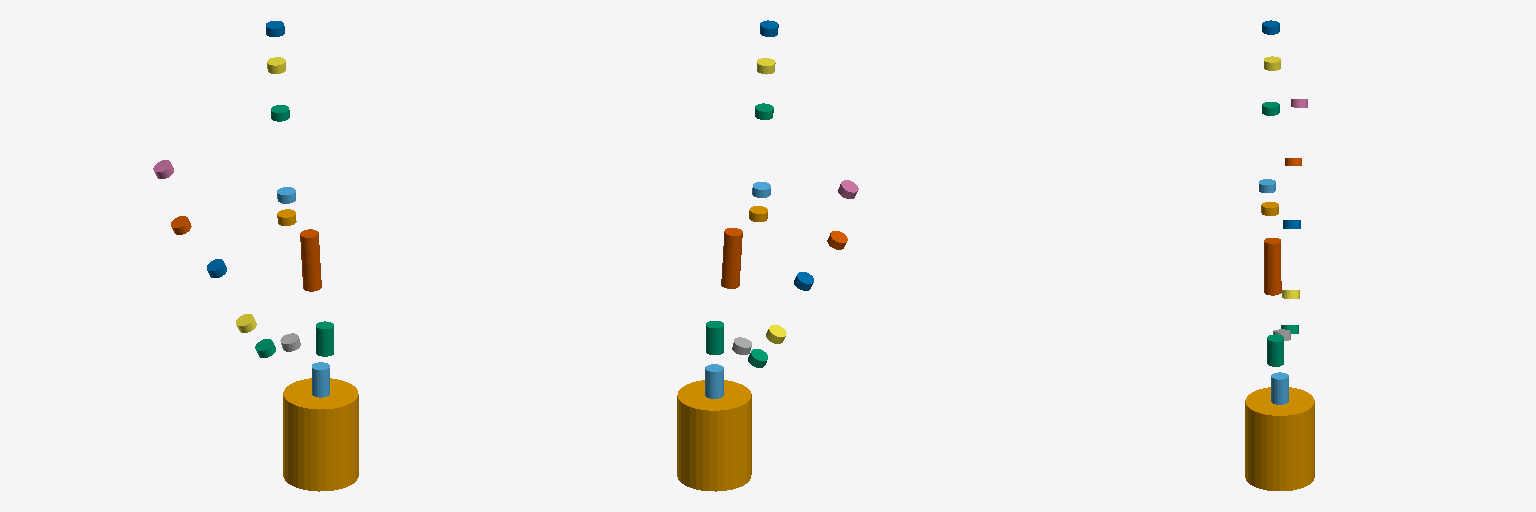
robot.urdf — hand:
<?xml version="1.0"?>
<robot name="hand">

    <!-- Base Link -->
    <link name="base_link">
        <inertial>
            <mass value="1.0" />
            <origin xyz="0 0 0" rpy="0 0 0"/>
            <inertia ixx="0.1" ixy="0" ixz="0" iyy="0.1" iyz="0" izz="0.1" />
        </inertial>
        <visual>
            <origin xyz="0.0 0.0 -0.024" rpy="0.0 0.0 0.0"/>
            <geometry>
                <cylinder radius="0.02" length="0.048"/>
            </geometry>
        </visual>
    </link>

    <!-- Link 1 -->
    <link name="wrist">
        <inertial>
            <mass value="0.5" />
            <origin xyz="0 0 0" rpy="0 0 0"/>
            <inertia ixx="0.05" ixy="0" ixz="0" iyy="0.05" iyz="0" izz="0.05" />
        </inertial>
        <visual>
            <origin xyz="0.0 0.0 0.008" rpy="0.0 0.0 0.0"/>
            <geometry>
                <cylinder radius="0.005" length="0.016"/>
            </geometry>
        </visual>
    </link>

    <!-- Joint 1 -->
    <joint name="joint1" type="revolute">
        <parent link="base_link"/>
        <child link="wrist"/>
        <origin xyz="0 0 0" rpy="0 0 0"/>
        <axis xyz="0 1 0"/>
        <limit lower="-0.40" upper="0.40" effort="10" velocity="1"/>
    </joint>

    <!-- Link 2 -->
    <link name="meta2_c">
        <inertial>
            <mass value="0.5" />
            <origin xyz="0 0 0" rpy="0 0 0"/>
            <inertia ixx="0.05" ixy="0" ixz="0" iyy="0.05" iyz="0" izz="0.05" />
        </inertial>
        <visual>
            <origin xyz="0.0 0.0 0.0" rpy="0.0 0.0 0.0"/>
            <geometry>
                <cylinder radius="0.005" length="0.016"/>
            </geometry>
        </visual>
    </link>

    <!-- Joint 2 -->
    <joint name="joint2" type="revolute">
        <parent link="wrist"/>
        <child link="meta2_c"/>
        <origin xyz="0.0011 -0.0025 0.0326447" rpy="0 0 0"/>
        <!-- .785398 0 0 -->
        <axis xyz="1 0 0"/>
        <limit lower="-1.57" upper="1.57" effort="10" velocity="1"/>
    </joint>

    <!-- Link 3 -->
    <link name="meta1_c_1">
        <inertial>
            <mass value="0.5" />
            <origin xyz="0 0 0" rpy="0 0 0"/>
            <inertia ixx="0.05" ixy="0" ixz="0" iyy="0.05" iyz="0" izz="0.05" />
        </inertial>
    </link>
    <link name="meta1_c_2">
        <inertial>
            <mass value="0.5" />
            <origin xyz="0 0 0" rpy="0 0 0"/>
            <inertia ixx="0.05" ixy="0" ixz="0" iyy="0.05" iyz="0" izz="0.05" />
        </inertial>
    </link>
    <link name="meta1_c_3">
        <inertial>
            <mass value="0.5" />
            <origin xyz="0 0 0" rpy="0 0 0"/>
            <inertia ixx="0.05" ixy="0" ixz="0" iyy="0.05" iyz="0" izz="0.05" />
        </inertial>
        <visual>
            <origin xyz="0.0 0.0 0.0" rpy="0.0 0.0 0.0"/>
            <geometry>
                <cylinder radius="0.005" length="0.032"/>
            </geometry>
        </visual>
    </link>

    <!-- Joint 3 -->
    <joint name="joint3_1" type="fixed">
        <parent link="meta2_c"/>
        <child link="meta1_c_1"/>
        <origin xyz="-0.0096137 -0.00165902 0.0489203" rpy="0.002443461 0 0"/>
        <axis xyz="0 0 0"/>
        <limit lower="-3.14" upper="3.14" effort="10" velocity="1"/>
    </joint>
    <joint name="joint3_2" type="fixed">
        <parent link="meta1_c_1"/>
        <child link="meta1_c_2"/>
        <origin xyz="0 0 0" rpy="0 -0.06021386 0"/>
        <axis xyz="0 0 0"/>
        <limit lower="-3.14" upper="3.14" effort="10" velocity="1"/>
    </joint>
    <joint name="joint3_3" type="revolute">
        <parent link="meta1_c_2"/>
        <child link="meta1_c_3"/>
        <origin xyz="0 0 0" rpy="0 0 0"/>
        <axis xyz="0 0 1"/>
        <limit lower="-0.08" upper="0.08" effort="10" velocity="1"/>
    </joint>

    <!-- Link 4 -->
    <link name="indexp1_c_1">
        <inertial>
            <mass value="0.5" />
            <origin xyz="0 0 0" rpy="0 0 0"/>
            <inertia ixx="0.05" ixy="0" ixz="0" iyy="0.05" iyz="0" izz="0.05" />
        </inertial>
    </link>
    <link name="indexp1_c_2">
        <inertial>
            <mass value="0.5" />
            <origin xyz="0 0 0" rpy="0 0 0"/>
            <inertia ixx="0.05" ixy="0" ixz="0" iyy="0.05" iyz="0" izz="0.05" />
        </inertial>
    </link>
    <link name="indexp1_c_3">
        <inertial>
            <mass value="0.5" />
            <origin xyz="0 0 0" rpy="0 0 0"/>
            <inertia ixx="0.05" ixy="0" ixz="0" iyy="0.05" iyz="0" izz="0.05" />
        </inertial>
        <visual>
            <origin xyz="0.0 0.0 0.0" rpy="0.0 0.0 0.0"/>
            <geometry>
                <cylinder radius="0.005" length="0.005"/>
            </geometry>
        </visual>
    </link>

    <!-- Joint 4 -->
    <joint name="joint4_1" type="fixed">
        <parent link="meta1_c_3"/>
        <child link="indexp1_c_1"/>
        <origin xyz="-0.0138285 -0.00145 0.0301857" rpy="-0.0028797933 0 0"/>
        <axis xyz="0 0 0"/>
        <limit lower="-3.14" upper="3.14" effort="10" velocity="1"/>
    </joint>
    <joint name="joint4_2" type="fixed">
        <parent link="indexp1_c_1"/>
        <child link="indexp1_c_2"/>
        <origin xyz="0 0 0" rpy="0 0 -0.04258603"/>
        <axis xyz="0 0 0"/>
        <limit lower="-3.14" upper="3.14" effort="10" velocity="1"/>
    </joint>
    <joint name="joint4_3" type="revolute">
        <parent link="indexp1_c_2"/>
        <child link="indexp1_c_3"/>
        <origin xyz="0 0 0" rpy="0 0 0"/>
        <axis xyz="0 1 0"/>
        <limit lower="-0.27" upper="0.27" effort="10" velocity="1"/>
    </joint>

    <!-- Link 5 -->
    <link name="indexp2_c">
        <inertial>
            <mass value="0.5" />
            <origin xyz="0 0 0" rpy="0 0 0"/>
            <inertia ixx="0.05" ixy="0" ixz="0" iyy="0.05" iyz="0" izz="0.05" />
        </inertial>
        <visual>
            <origin xyz="0.0 0.0 0.0" rpy="0.0 0.0 0.0"/>
            <geometry>
                <cylinder radius="0.005" length="0.005"/>
            </geometry>
        </visual>
    </link>

    <!-- Joint 5 -->
    <joint name="joint5" type="revolute">
        <parent link="indexp1_c_3"/>
        <child link="indexp2_c"/>
        <origin xyz="-0.000099998 -0.0016 0.014" rpy="0 0 0"/>
        <axis xyz="1 0 0"/>
        <limit lower="-1.57" upper="0.17" effort="10" velocity="1"/>
    </joint>

    <!-- Link 6 -->
    <link name="indexp3_c">
        <inertial>
            <mass value="0.5" />
            <origin xyz="0 0 0" rpy="0 0 0"/>
            <inertia ixx="0.05" ixy="0" ixz="0" iyy="0.05" iyz="0" izz="0.05" />
        </inertial>
        <visual>
            <origin xyz="0.0 0.0 0.0" rpy="0.0 0.0 0.0"/>
            <geometry>
                <cylinder radius="0.005" length="0.005"/>
            </geometry>
        </visual>
    </link>

    <!-- Joint 6 -->
    <joint name="joint6" type="revolute">
        <parent link="indexp2_c"/>
        <child link="indexp3_c"/>
        <origin xyz="0 0.00199797 0.048" rpy="0 0 0"/>
        <!-- -1.5708 0 0-->
        <axis xyz="1 0 0"/>
        <limit lower="-2.10" upper="0" effort="10" velocity="1"/>
    </joint>

    <!-- Link 7 -->
    <link name="indexp4_c">
        <inertial>
            <mass value="0.5" />
            <origin xyz="0 0 0" rpy="0 0 0"/>
            <inertia ixx="0.05" ixy="0" ixz="0" iyy="0.05" iyz="0" izz="0.05" />
        </inertial>
        <visual>
            <origin xyz="0.0 0.0 0.0" rpy="0.0 0.0 0.0"/>
            <geometry>
                <cylinder radius="0.005" length="0.005"/>
            </geometry>
        </visual>
    </link>

    <!-- Joint 7 -->
    <joint name="joint7" type="revolute">
        <parent link="indexp3_c"/>
        <child link="indexp4_c"/>
        <origin xyz="0 0.000899992 0.0279039" rpy="0 0 0"/>
        <!-- -0.523599 0 0 -->
        <axis xyz="1 0 0"/>
        <limit lower="-0.875" upper="0" effort="10" velocity="1"/>
    </joint>

    <!-- Link 8 -->
    <link name="indexp5_c">
        <inertial>
            <mass value="0.5" />
            <origin xyz="0 0 0" rpy="0 0 0"/>
            <inertia ixx="0.05" ixy="0" ixz="0" iyy="0.05" iyz="0" izz="0.05" />
        </inertial>
        <visual>
            <origin xyz="0.0 0.0 0.0" rpy="0.0 0.0 0.0"/>
            <geometry>
                <cylinder radius="0.005" length="0.005"/>
            </geometry>
        </visual>
    </link>

    <!-- Joint 8 -->
    <joint name="joint8" type="fixed">
        <parent link="indexp4_c"/>
        <child link="indexp5_c"/>
        <origin xyz="-0.000036879 -0.000910405 0.02221986" rpy="0 0 0"/>
        <axis xyz="0 0 0"/>
        <limit lower="-3.14" upper="3.14" effort="10" velocity="1"/>
    </joint>

    <!-- Link 9 -->
    <link name="thumbp1_c_1">
        <inertial>
            <mass value="0.5" />
            <origin xyz="0 0 0" rpy="0 0 0"/>
            <inertia ixx="0.05" ixy="0" ixz="0" iyy="0.05" iyz="0" izz="0.05" />
        </inertial>
    </link>
    <link name="thumbp1_c_2">
        <inertial>
            <mass value="0.5" />
            <origin xyz="0 0 0" rpy="0 0 0"/>
            <inertia ixx="0.05" ixy="0" ixz="0" iyy="0.05" iyz="0" izz="0.05" />
        </inertial>
    </link>
    <link name="thumbp1_c_3">
        <inertial>
            <mass value="0.5" />
            <origin xyz="0 0 0" rpy="0 0 0"/>
            <inertia ixx="0.05" ixy="0" ixz="0" iyy="0.05" iyz="0" izz="0.05" />
        </inertial>
        <visual>
            <origin xyz="0.0 0.0 0.0" rpy="0.0 0.0 0.0"/>
            <geometry>
                <cylinder radius="0.005" length="0.005"/>
            </geometry>
        </visual>
    </link>

    <!-- Joint 9 -->
    <joint name="joint9_1" type="fixed">
        <parent link="meta1_c_3"/>
        <child link="thumbp1_c_1"/>
        <origin xyz="-0.0122179 0.0052 -0.0473596" rpy="0 -0.191986 0"/>
        <axis xyz="0 0 0"/>
        <limit lower="-3.14" upper="3.14" effort="10" velocity="1"/>
    </joint>
    <joint name="joint9_2" type="fixed">
        <parent link="thumbp1_c_1"/>
        <child link="thumbp1_c_2"/>
        <origin xyz="0 0 0" rpy="0 0 -0.083339472"/>
        <axis xyz="0 0 0"/>
        <limit lower="-3.14" upper="3.14" effort="10" velocity="1"/>
    </joint>
    <joint name="joint9_3" type="revolute">
        <parent link="thumbp1_c_2"/>
        <child link="thumbp1_c_3"/>
        <origin xyz="0 0 0" rpy="0 0 0"/>
        <!-- -0.872665 0 0 -->
        <axis xyz="1 0 0"/>
        <limit lower="-0.785" upper="0" effort="10" velocity="1"/>
    </joint>

    <!-- Link 10 -->
    <link name="thumbp2_c_1">
        <inertial>
            <mass value="0.5" />
            <origin xyz="0 0 0" rpy="0 0 0"/>
            <inertia ixx="0.05" ixy="0" ixz="0" iyy="0.05" iyz="0" izz="0.05" />
        </inertial>
    </link>
    <link name="thumbp2_c_2">
        <inertial>
            <mass value="0.5" />
            <origin xyz="0 0 0" rpy="0 0 0"/>
            <inertia ixx="0.05" ixy="0" ixz="0" iyy="0.05" iyz="0" izz="0.05" />
        </inertial>
    </link>
    <link name="thumbp2_c_3">
        <inertial>
            <mass value="0.5" />
            <origin xyz="0 0 0" rpy="0 0 0"/>
            <inertia ixx="0.05" ixy="0" ixz="0" iyy="0.05" iyz="0" izz="0.05" />
        </inertial>
        <visual>
            <origin xyz="0.0 0.0 0.0" rpy="0.0 0.0 0.0"/>
            <geometry>
                <cylinder radius="0.005" length="0.005"/>
            </geometry>
        </visual>
    </link>

    <!-- Joint 10 -->
    <joint name="joint10_1" type="fixed">
        <parent link="thumbp1_c_3"/>
        <child link="thumbp2_c_1"/>
        <origin xyz="-0.0131755 0.00349373 0.00086368" rpy="0 0 0"/>
        <axis xyz="0 0 0"/>
        <limit lower="-3.14" upper="3.14" effort="10" velocity="1"/>
    </joint>
    <joint name="joint10_2" type="fixed">
        <parent link="thumbp2_c_1"/>
        <child link="thumbp2_c_2"/>
        <origin xyz="0 0 0" rpy="0 -0.174533 0"/>
        <axis xyz="0 0 0"/>
        <limit lower="-3.14" upper="3.14" effort="10" velocity="1"/>
    </joint>
    <joint name="joint10_3" type="revolute">
        <parent link="thumbp2_c_2"/>
        <child link="thumbp2_c_3"/>
        <origin xyz="0 0 0" rpy="0 0 0"/>
        <!-- 0 0 -0.349066 -->
        <axis xyz="0 0 1"/>
        <limit lower="-0.88" upper="0.0" effort="10" velocity="1"/>
    </joint>

    <!-- Link 11 -->
    <link name="thumbp3_c">
        <inertial>
            <mass value="0.5" />
            <origin xyz="0 0 0" rpy="0 0 0"/>
            <inertia ixx="0.05" ixy="0" ixz="0" iyy="0.05" iyz="0" izz="0.05" />
        </inertial>
        <visual>
            <origin xyz="0.0 0.0 0.0" rpy="0.0 0.0 0.0"/>
            <geometry>
                <cylinder radius="0.005" length="0.005"/>
            </geometry>
        </visual>
    </link>

    <!-- Joint 11 -->
    <joint name="joint11" type="revolute">
        <parent link="thumbp2_c_3"/>
        <child link="thumbp3_c"/>
        <origin xyz="-0.0034515 0 0.0204197" rpy="0 0 0"/>
        <!-- 0 -0.523599 0 -->
        <axis xyz="0 1 0"/>
        <limit lower="-0.70" upper="0.27" effort="10" velocity="1"/>
    </joint>

    <!-- Link 12 -->
    <link name="thumbp4_c">
        <inertial>
            <mass value="0.5" />
            <origin xyz="0 0 0" rpy="0 0 0"/>
            <inertia ixx="0.05" ixy="0" ixz="0" iyy="0.05" iyz="0" izz="0.05" />
        </inertial>
        <visual>
            <origin xyz="0.0 0.0 0.0" rpy="0.0 0.0 0.0"/>
            <geometry>
                <cylinder radius="0.005" length="0.005"/>
            </geometry>
        </visual>
    </link>

    <!-- Joint 12 -->
    <joint name="joint12" type="revolute">
        <parent link="thumbp3_c"/>
        <child link="thumbp4_c"/>
        <origin xyz="-0.0012 0 0.040" rpy="0 0 0"/>
        <!-- 0 1.22173 0 -->
        <axis xyz="0 1 0"/>
        <limit lower="-0" upper="1.57" effort="10" velocity="1"/>
    </joint>

    <!-- Link 13 -->
    <link name="thumbp5_c">
        <inertial>
            <mass value="0.5" />
            <origin xyz="0 0 0" rpy="0 0 0"/>
            <inertia ixx="0.05" ixy="0" ixz="0" iyy="0.05" iyz="0" izz="0.05" />
        </inertial>
        <visual>
            <origin xyz="0.0 0.0 0.0" rpy="0.0 0.0 0.0"/>
            <geometry>
                <cylinder radius="0.005" length="0.005"/>
            </geometry>
        </visual>
    </link>

    <!-- Joint 13 -->
    <joint name="joint13" type="revolute">
        <parent link="thumbp4_c"/>
        <child link="thumbp5_c"/>
        <origin xyz="-0.0072 0 0.036" rpy="0 0 0"/>
        <!-- 0 0.785398 0 -->
        <axis xyz="0 1 0"/>
        <limit lower="-0.90" upper="1.22" effort="10" velocity="1"/>
    </joint>

    <!-- Link 14 -->
    <link name="thumbp6_c">
        <inertial>
            <mass value="0.5" />
            <origin xyz="0 0 0" rpy="0 0 0"/>
            <inertia ixx="0.05" ixy="0" ixz="0" iyy="0.05" iyz="0" izz="0.05" />
        </inertial>
        <visual>
            <origin xyz="0.0 0.0 0.0" rpy="0.0 0.0 0.0"/>
            <geometry>
                <cylinder radius="0.005" length="0.005"/>
            </geometry>
        </visual>
    </link>

    <!-- Joint 14 -->
    <joint name="joint9" type="fixed">
        <parent link="thumbp5_c"/>
        <child link="thumbp6_c"/>
        <origin xyz="0.00570894 0.003393 0.0339805" rpy="0 0 0"/>
        <axis xyz="0 0 0"/>
        <limit lower="-3.14" upper="3.14" effort="10" velocity="1"/>
    </joint>

</robot>

--- What the picture shows (computed from the rendered views, not written in the file) ---
Views: 3 orthographic renders of the robot side by side, from view 1: azimuth 30°, elevation 25°; view 2: azimuth 150°, elevation 25°; view 3: azimuth 270°, elevation 25°.
Robot: hand — 23 links, 22 joints (12 revolute, 10 fixed); root link base_link; default pose: all joints at 0.
Visible links, largest first — view 1: base_link, meta1_c_3, wrist, meta2_c; view 2: base_link, meta1_c_3, wrist, meta2_c; view 3: base_link, meta1_c_3, wrist, meta2_c.
Boxes of the visible links, left/top/right/bottom form: base_link: left=283, top=378, right=358, bottom=491; meta1_c_3: left=300, top=229, right=321, bottom=291; wrist: left=312, top=362, right=329, bottom=397; meta2_c: left=316, top=321, right=333, bottom=356; base_link: left=677, top=380, right=751, bottom=491; meta1_c_3: left=721, top=228, right=742, bottom=288; wrist: left=705, top=364, right=723, bottom=398; meta2_c: left=706, top=321, right=723, bottom=354; base_link: left=1245, top=387, right=1314, bottom=490; meta1_c_3: left=1264, top=238, right=1281, bottom=295; wrist: left=1271, top=372, right=1288, bottom=404; meta2_c: left=1267, top=334, right=1283, bottom=366.
Size in the robot's own frame: 0.1153 by 0.04 by 0.2736 metres.
Geometry: primitives only (box / cylinder / sphere), no mesh files.